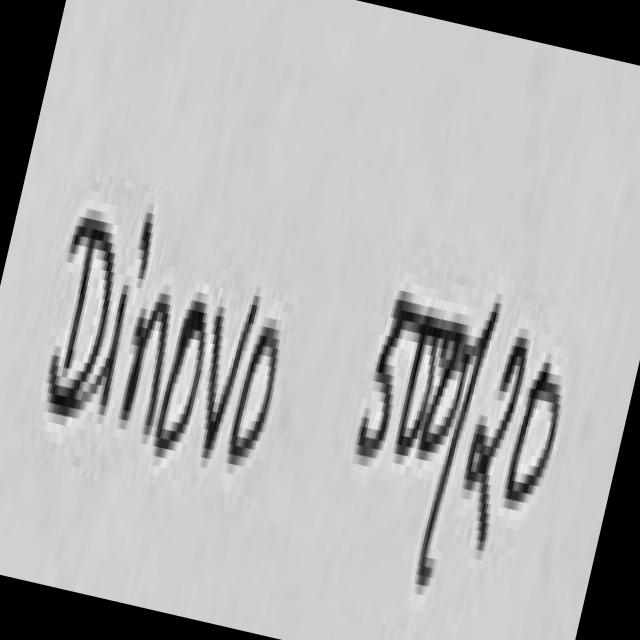0: (508, 363, 561, 510), (397, 316, 434, 457), (422, 341, 470, 448)
2: (466, 330, 528, 564)
5: (358, 300, 422, 468)
D: (50, 217, 112, 413)
i: (71, 288, 130, 426), (136, 204, 155, 284)
n: (120, 282, 170, 439)
o: (156, 301, 205, 455), (231, 327, 278, 461)
v: (203, 302, 258, 455)
